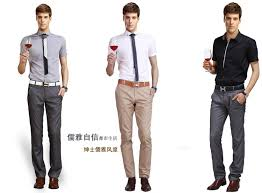F_belt: (112, 76, 155, 92), (212, 81, 249, 95)
F_dress pants: (24, 85, 71, 180)
F_shirt: (18, 29, 76, 85), (101, 28, 160, 80)
F_tie: (123, 35, 147, 82), (36, 36, 55, 79)
